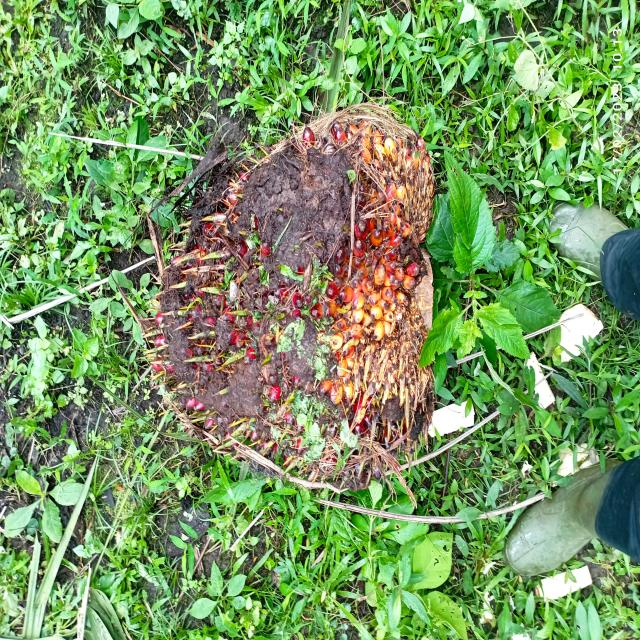fraksi 3: (124, 58, 492, 519)
